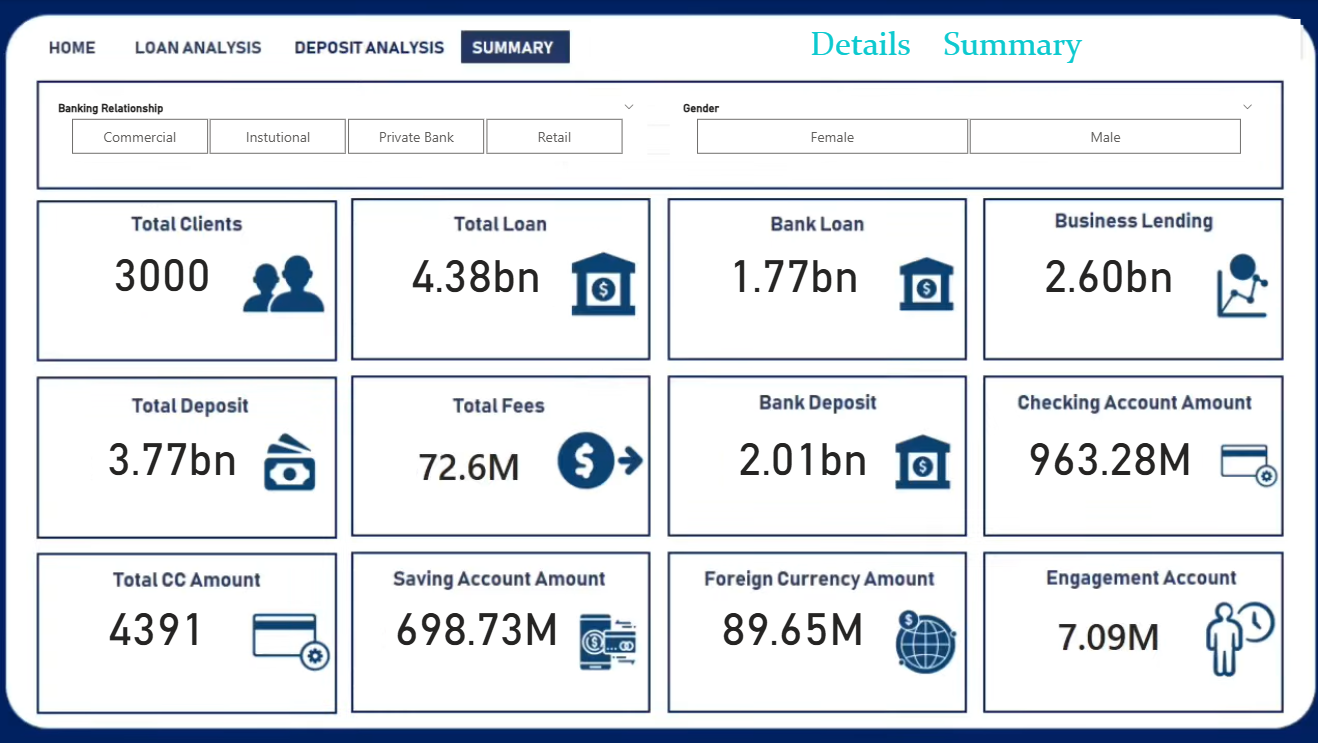

The page's visual inventory and layout, read from the dashboard file:
{"tool":"powerbi","page":{"name":"Summary","canvas":[1280,720],"ordinal":3},"visuals":[{"type":"card","fields":{"Values":["CountNonNull(banking.Name)"]},"box":[92.3,243.3,134.8,58.6],"z":0},{"type":"card","fields":{"Values":["banking.TotalLoan"]},"box":[389.3,244.6,147.2,58.6],"z":1},{"type":"card","fields":{"Values":["Sum(banking.Bank_Loans)"]},"box":[683.8,244.6,172.2,58.6],"z":2},{"type":"card","fields":{"Values":["Sum(banking.Business Lending)"]},"box":[998.2,244.6,152.2,58.6],"z":3},{"type":"card","fields":{"Values":["banking.TotalDeposite"]},"box":[92.3,420.5,154.7,58.6],"z":4},{"type":"card","fields":{"Values":["Sum(banking.Bank Deposits)"]},"box":[702.5,420.5,153.5,58.6],"z":6},{"type":"card","fields":{"Values":["Sum(banking.Checking_Accounts)"]},"box":[985.8,420.5,178.4,58.6],"z":7},{"type":"card","fields":{"Values":["Sum(banking.Amount_of_Credit_Cards)"]},"box":[83.6,585.2,143.5,58.6],"z":8},{"type":"card","fields":{"Values":["Sum(banking.Saving_Accounts)"]},"box":[376.8,585.2,174.7,58.6],"z":9},{"type":"card","fields":{"Values":["Sum(banking.Foreign_Currency_Account)"]},"box":[681.3,585.2,174.7,58.6],"z":10},{"type":"textbox","box":[350.6,399.3,54.9,103.6],"z":12},{"type":"textbox","box":[975.8,585.2,48.7,81.1],"z":13},{"type":"slicer","fields":{"Values":["banking.BR"]},"box":[47.4,93.6,581.5,62.4],"z":14},{"type":"slicer","fields":{"Values":["banking.Gender"]},"box":[650.1,93.6,575.2,62.4],"z":15},{"type":"textbox","box":[574,18.7,685,49.9],"z":16},{"type":"actionButton","box":[47.4,27.5,63.6,41.2],"z":17},{"type":"actionButton","box":[128.5,27.5,138.5,41.2],"z":18},{"type":"actionButton","box":[282,28.7,156,41.2],"z":19}]}

Visuals, with their boxes in screenshot pixels (x1, y1, x2, y2), scaled from the page's 1280x720 canvas onto the 1318x743 screenshot:
card - CountNonNull(banking.Name): box(95, 251, 234, 312)
card - banking.TotalLoan: box(401, 252, 552, 313)
card - Sum(banking.Bank_Loans): box(704, 252, 881, 313)
card - Sum(banking.Business Lending): box(1028, 252, 1185, 313)
card - banking.TotalDeposite: box(95, 434, 254, 494)
card - Sum(banking.Bank Deposits): box(723, 434, 881, 494)
card - Sum(banking.Checking_Accounts): box(1015, 434, 1199, 494)
card - Sum(banking.Amount_of_Credit_Cards): box(86, 604, 234, 664)
card - Sum(banking.Saving_Accounts): box(388, 604, 568, 664)
card - Sum(banking.Foreign_Currency_Account): box(702, 604, 881, 664)
textbox: box(361, 412, 418, 519)
textbox: box(1005, 604, 1055, 688)
slicer - banking.BR: box(49, 97, 648, 161)
slicer - banking.Gender: box(669, 97, 1262, 161)
textbox: box(591, 19, 1296, 71)
actionButton: box(49, 28, 114, 71)
actionButton: box(132, 28, 275, 71)
actionButton: box(290, 30, 451, 72)
